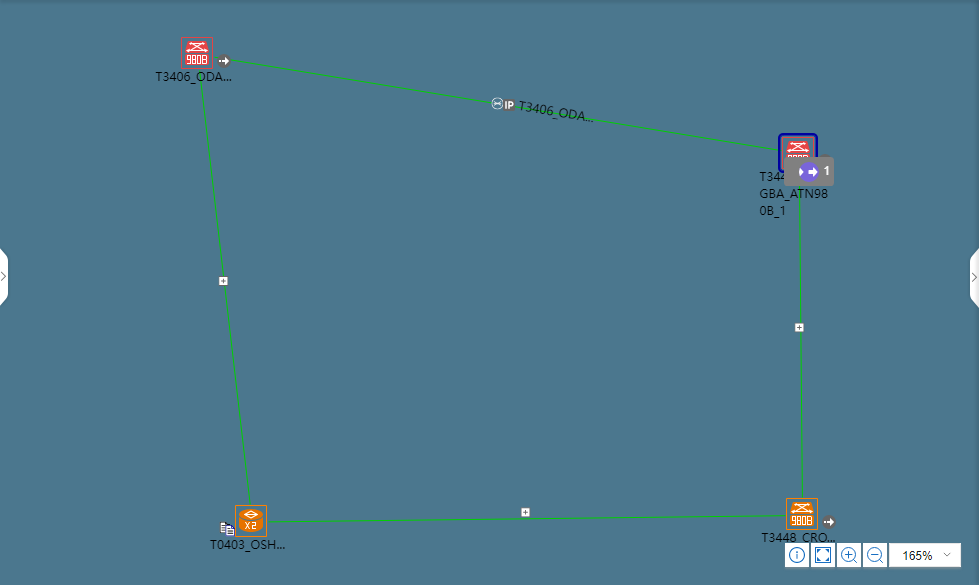ATN_Orange: (786, 497, 815, 533)
ATN_Red: (181, 39, 210, 66), (786, 136, 815, 159)
Link_Green: (228, 57, 777, 150), (199, 86, 251, 508), (303, 516, 558, 527), (272, 516, 561, 523), (798, 403, 809, 497)
Router_Orange: (236, 510, 263, 539)
